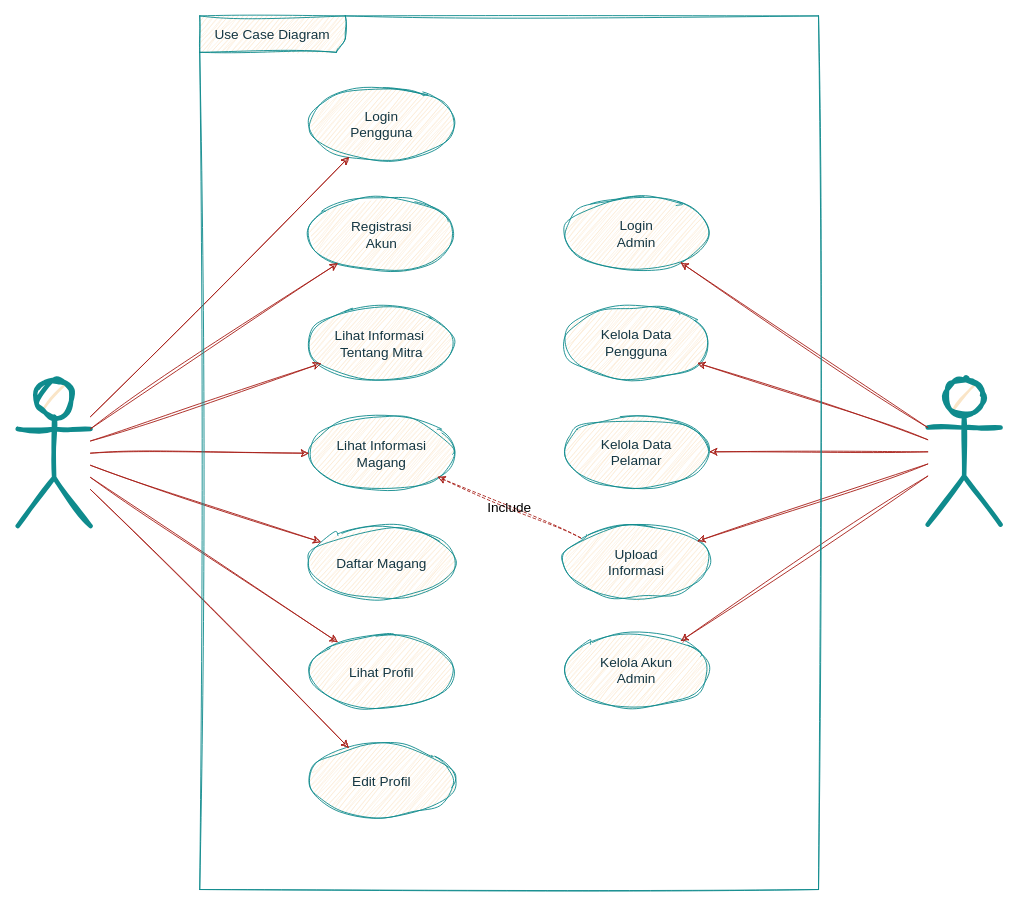
This 1018x905 diagram has some shape labels left out. Here are the shapes that lost their labels. From the top down, the centre of each, then its label:
At (53,453): "Pengguna".
At (963,451): "Admin".
